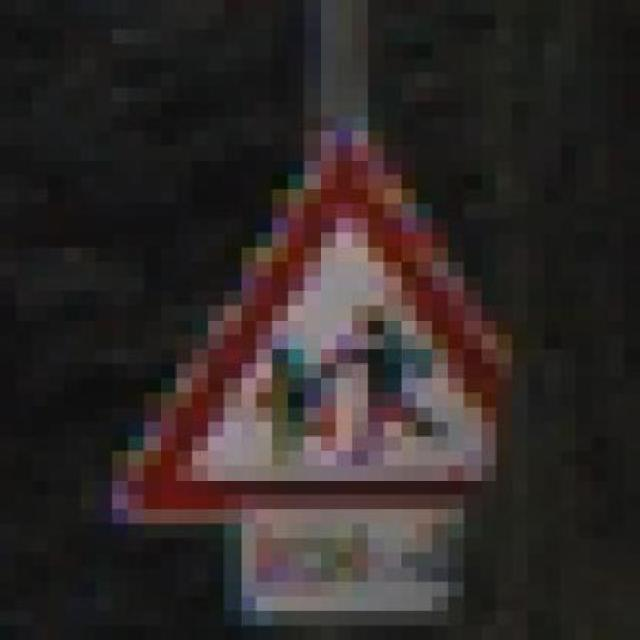Beware of children: (96, 116, 576, 524)
